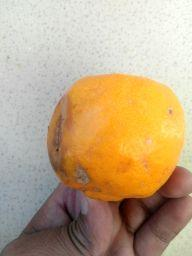Unripe: (47, 74, 182, 201)
